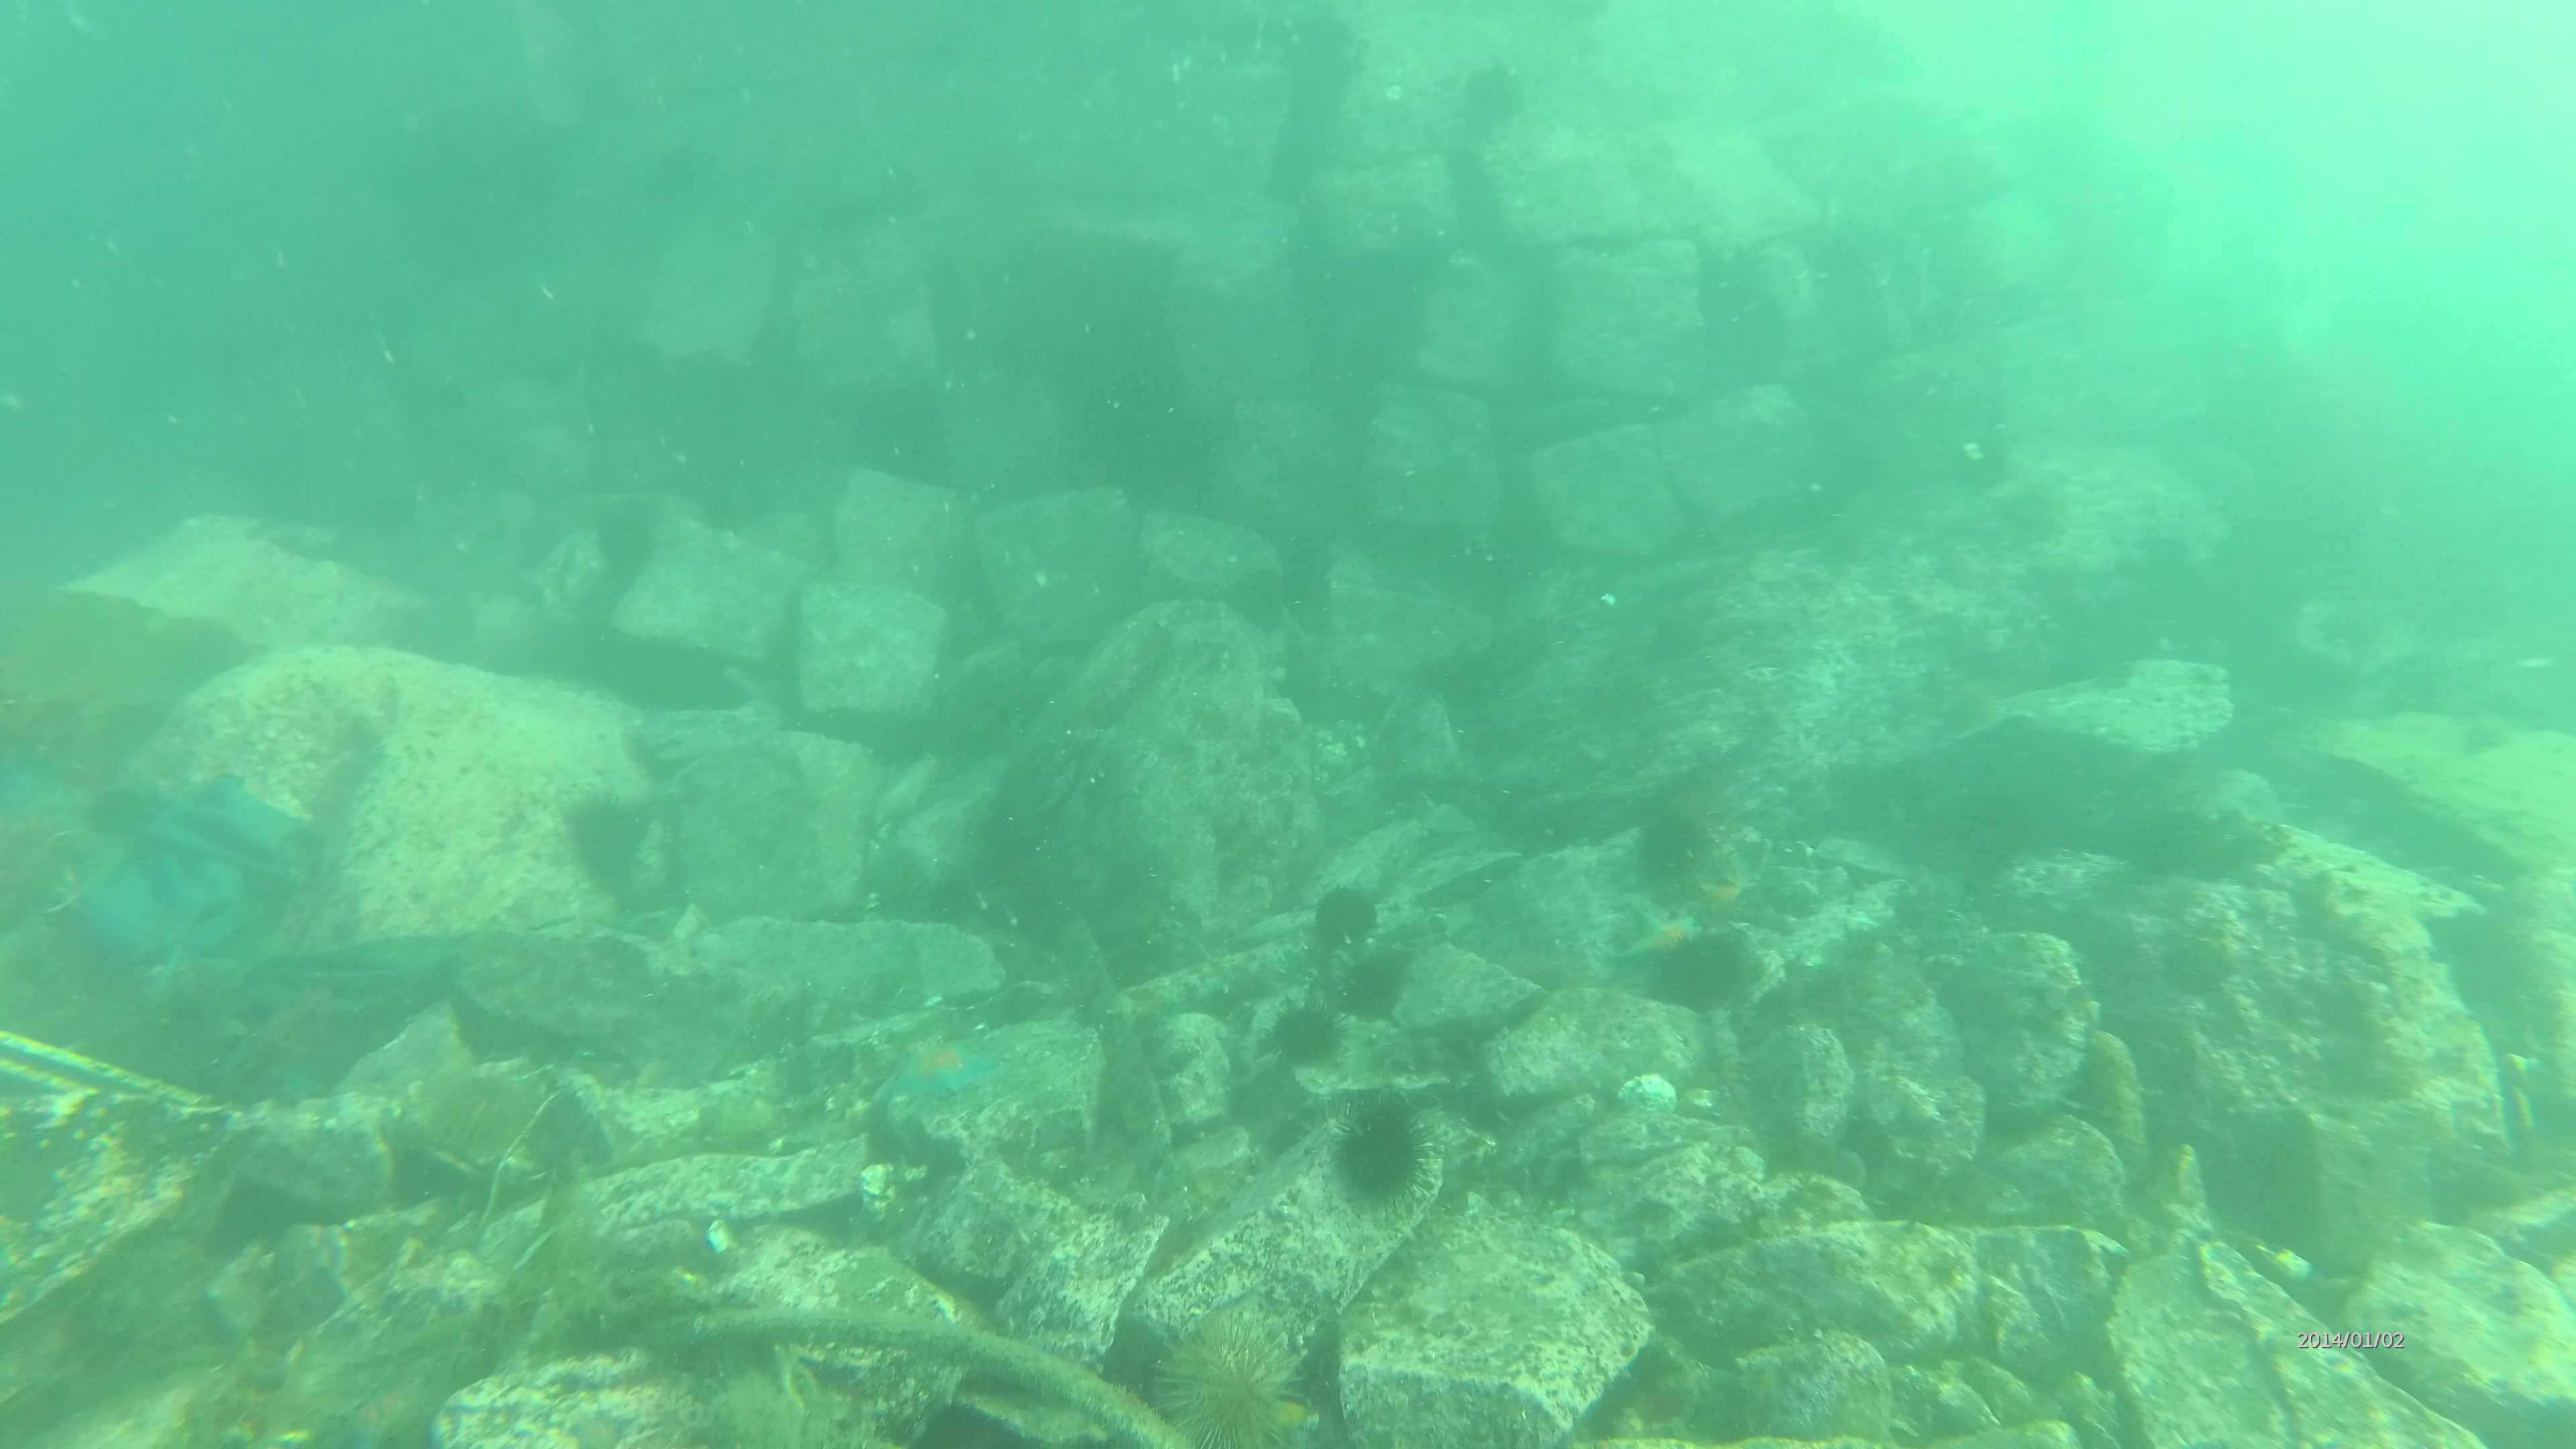echinus: (1157, 1320, 1304, 1442), (1330, 1088, 1435, 1210), (564, 789, 663, 883), (1637, 803, 1729, 885), (1658, 934, 1748, 1010), (1272, 989, 1357, 1065), (1315, 876, 1385, 950), (1348, 947, 1415, 1019)
starfish: (888, 1037, 1000, 1111), (1610, 901, 1697, 973)
